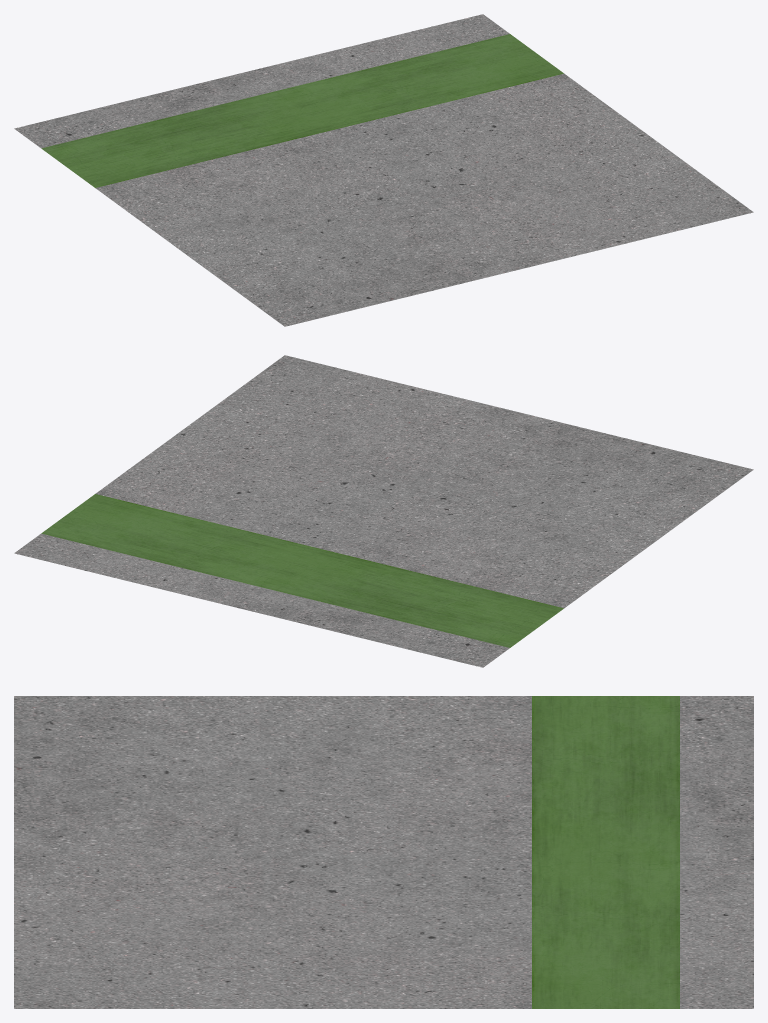
File: MB_Road_Bike_Path_10x10m.fbx
3 views of the same model, one above another, from view 1: azimuth 30°, elevation 25°; view 2: azimuth 150°, elevation 25°; view 3: azimuth 270°, elevation 25° (orthographic). The views are drawn at different scales.
Visible parts, largest first — view 1: MB_Road_Bike_Path_10x10m; view 2: MB_Road_Bike_Path_10x10m; view 3: MB_Road_Bike_Path_10x10m.
Boxes of the visible parts, left/top/right/bottom form: MB_Road_Bike_Path_10x10m: left=14, top=14, right=753, bottom=326; MB_Road_Bike_Path_10x10m: left=14, top=355, right=753, bottom=667; MB_Road_Bike_Path_10x10m: left=14, top=696, right=753, bottom=1008.
Bounding box in the file's own units: 1000 × 0 × 1000.
